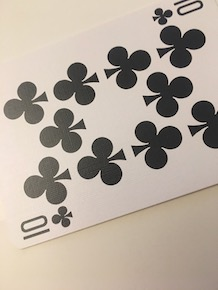TenOfClubs: (1, 1, 218, 250)
